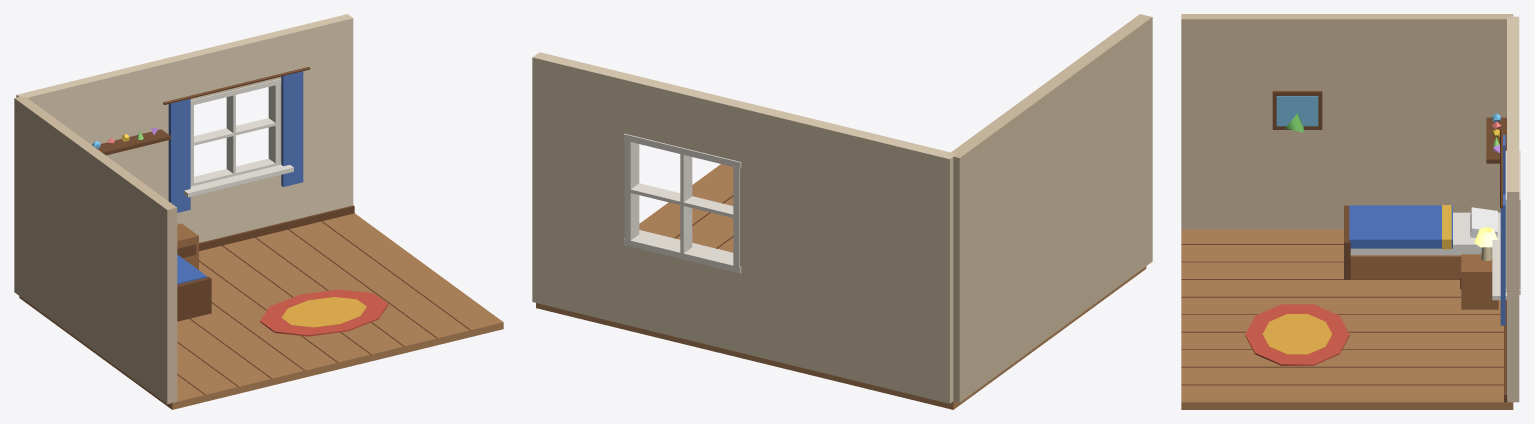
The model's file is bedroom.glb.
3 views of the same model, side by side, from view 1: azimuth 30°, elevation 25°; view 2: azimuth 150°, elevation 25°; view 3: azimuth 270°, elevation 25° (orthographic). The views are drawn at different scales.
Visible parts, largest first — view 1: bedroom, bed, blanket; view 2: bedroom; view 3: bedroom, bed, blanket.
Part boxes in pixels (box(x1,y1,x2,y2)): bedroom: box(14, 14, 503, 409); bed: box(177, 276, 211, 321); blanket: box(177, 254, 206, 284); bedroom: box(532, 14, 1152, 409); bedroom: box(1181, 14, 1520, 409); bed: box(1344, 205, 1500, 279); blanket: box(1349, 205, 1452, 248).
Bounding box in the file's own units: 5.08 × 2.9 × 4.09.
